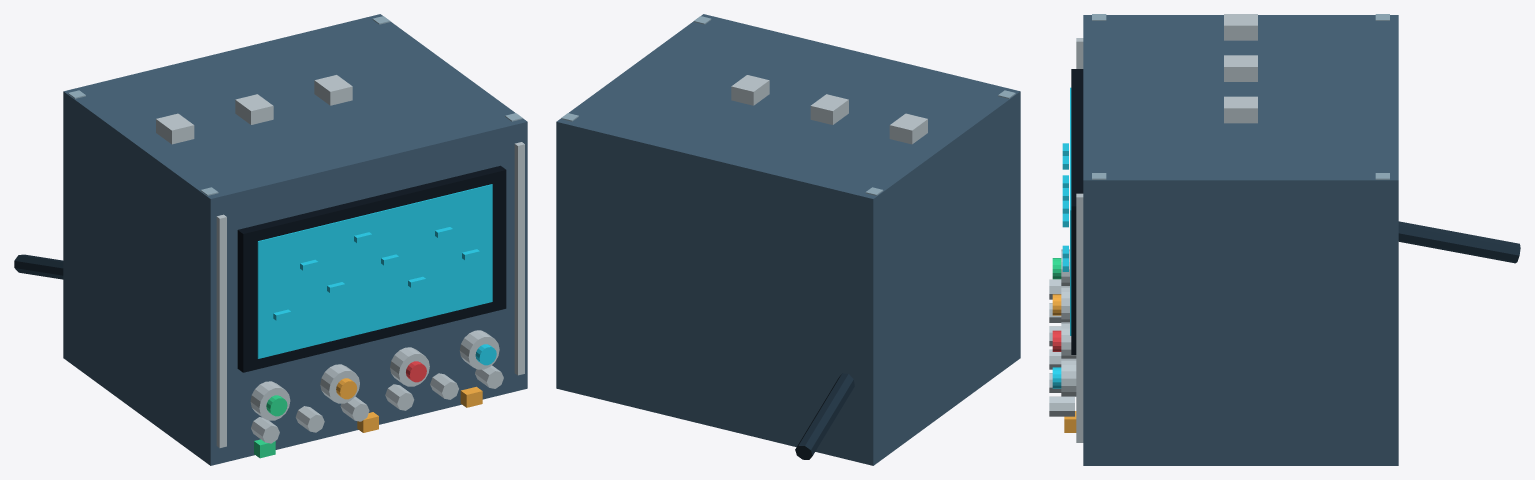
Rendered from 33_L80_MicroringThermalSensorArray.fbx.
The picture shows the model from 3 angles, left to right: view 1: azimuth 30°, elevation 25°; view 2: azimuth 150°, elevation 25°; view 3: azimuth 270°, elevation 25°; orthographic projection. The views are drawn at different scales.
Visible parts, largest first — view 1: MicroringThermalSensorArray; view 2: MicroringThermalSensorArray; view 3: MicroringThermalSensorArray.
Boxes of the visible parts, box(x1,y1,x2,y2) form: MicroringThermalSensorArray: box(14, 14, 527, 465); MicroringThermalSensorArray: box(556, 14, 1020, 465); MicroringThermalSensorArray: box(1049, 14, 1520, 465).
Bounding box in the file's own units: 92 × 77.86 × 111.
